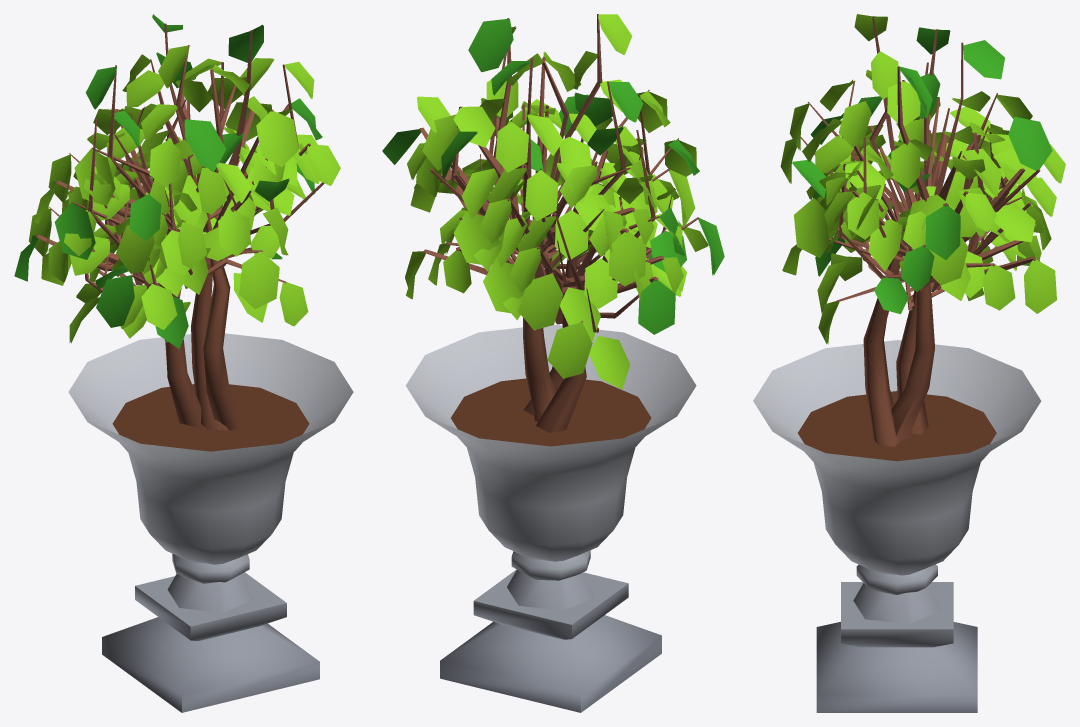
Rendered from flower.fbx.
3 views of the same model, side by side, from view 1: azimuth 30°, elevation 25°; view 2: azimuth 150°, elevation 25°; view 3: azimuth 270°, elevation 25° (orthographic).
Visible parts, largest first — view 1: flower1; view 2: flower1; view 3: flower1.
Part boxes in pixels (x1,y1,x2,y2): flower1: [14, 14, 353, 712]; flower1: [382, 14, 724, 712]; flower1: [753, 14, 1065, 712].
Bounding box in the file's own units: 139 × 289 × 127.
